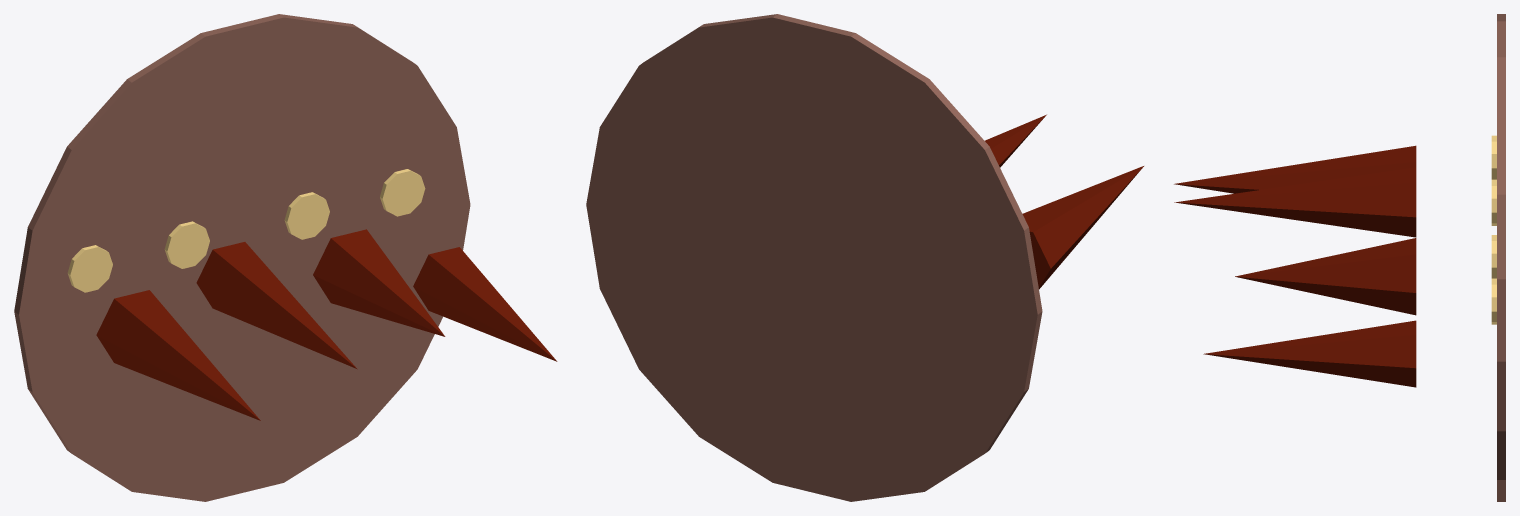
The model's file is 03_ambient_object_cluster.glb.
The picture shows the model from 3 angles, left to right: view 1: azimuth 30°, elevation 25°; view 2: azimuth 150°, elevation 25°; view 3: azimuth 270°, elevation 25°; orthographic projection. The views are drawn at different scales.
Visible parts, largest first — view 1: scatter_base, basalt_shard_0, basalt_shard_1, basalt_shard_2, basalt_shard_3, lava_glow_0, lava_glow_2, lava_glow_3, lava_glow_1; view 2: scatter_base, basalt_shard_0, basalt_shard_1; view 3: basalt_shard_1, basalt_shard_3, basalt_shard_2, basalt_shard_0, scatter_base.
Boxes of the visible parts, x1=… form: scatter_base: x1=14, y1=14, x2=470, y2=501; basalt_shard_0: x1=96, y1=290, x2=260, y2=420; basalt_shard_1: x1=196, y1=242, x2=357, y2=369; basalt_shard_2: x1=313, y1=229, x2=445, y2=336; basalt_shard_3: x1=413, y1=247, x2=557, y2=361; lava_glow_0: x1=67, y1=245, x2=112, y2=292; lava_glow_2: x1=284, y1=192, x2=329, y2=239; lava_glow_3: x1=380, y1=169, x2=425, y2=216; lava_glow_1: x1=164, y1=221, x2=209, y2=268; scatter_base: x1=586, y1=14, x2=1042, y2=501; basalt_shard_0: x1=1022, y1=166, x2=1143, y2=289; basalt_shard_1: x1=985, y1=114, x2=1046, y2=167; basalt_shard_1: x1=1174, y1=167, x2=1416, y2=237; basalt_shard_3: x1=1203, y1=320, x2=1416, y2=387; basalt_shard_2: x1=1235, y1=238, x2=1416, y2=315; basalt_shard_0: x1=1174, y1=145, x2=1416, y2=193; scatter_base: x1=1497, y1=14, x2=1505, y2=501.
Size of the model in its own units: 1.9 by 1.87 by 1.29.
